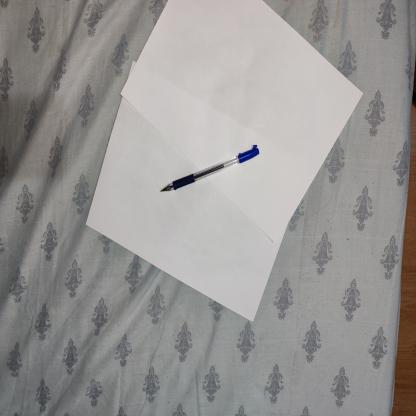Pen: (159, 138, 260, 196)
